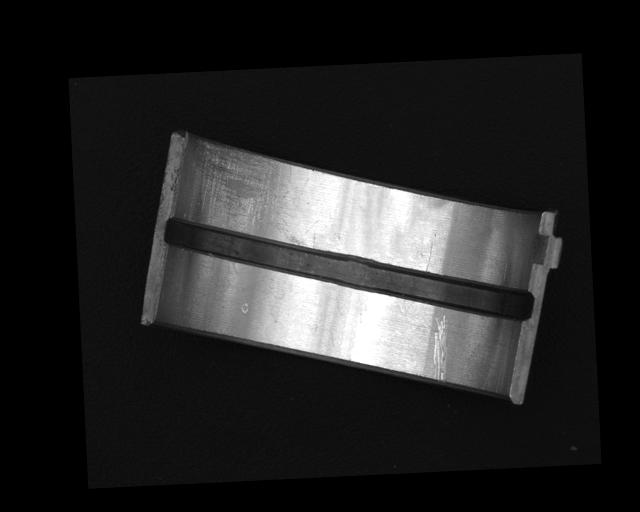bruise: (240, 302, 250, 314)
gap: (163, 199, 536, 338)
nick: (430, 312, 451, 383), (423, 232, 440, 273)
scratch: (186, 133, 308, 253)
